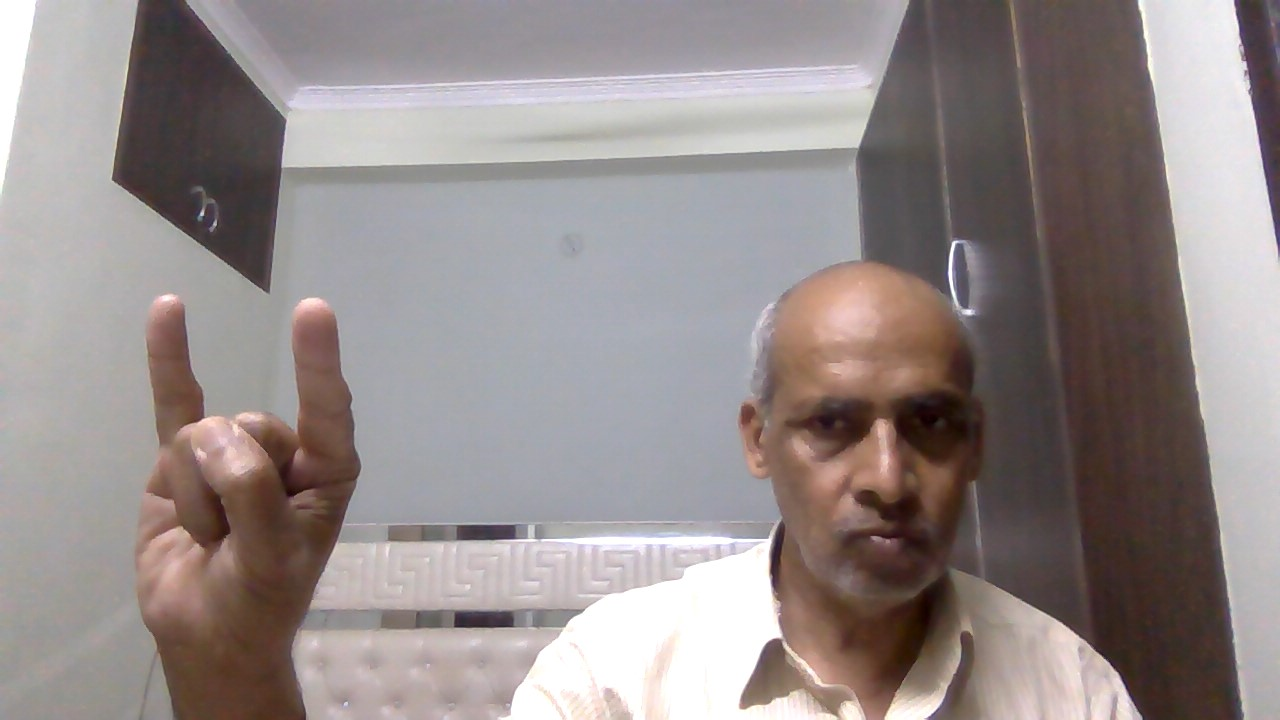Select All: (121, 275, 375, 659)
